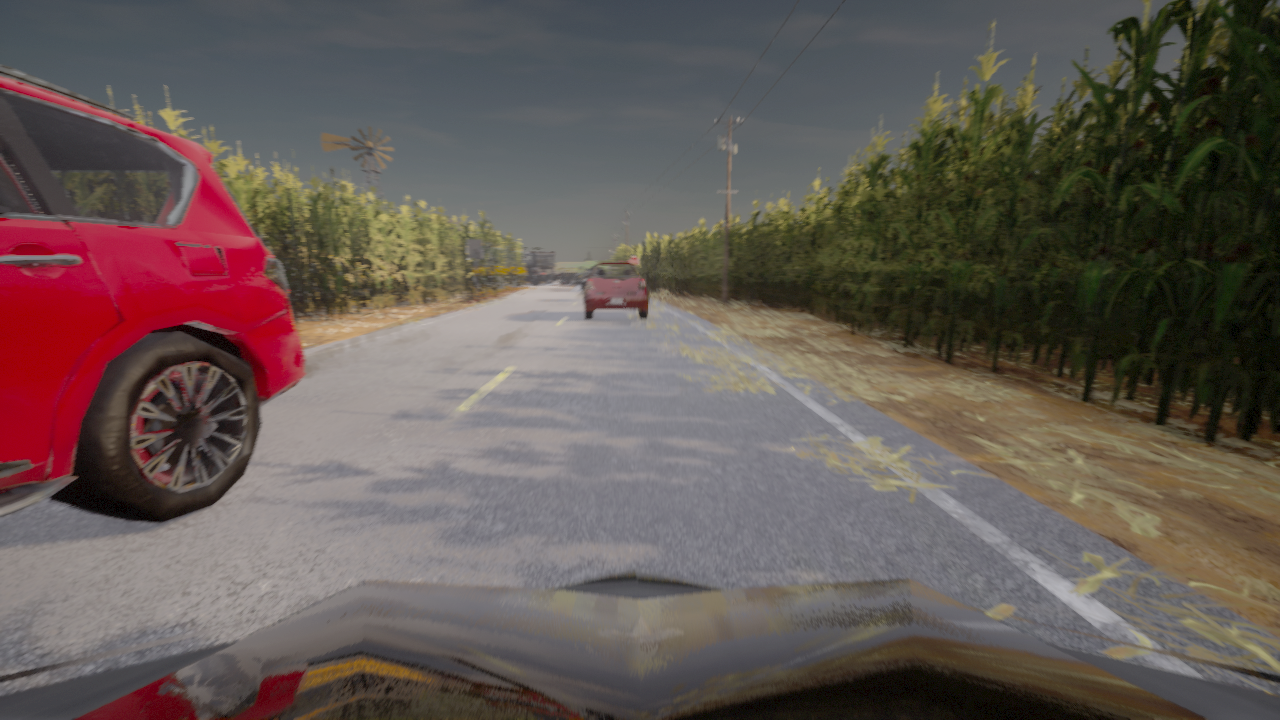cyclist: (0, 569, 1279, 719), (582, 262, 648, 319), (523, 252, 582, 285), (579, 267, 592, 290)
